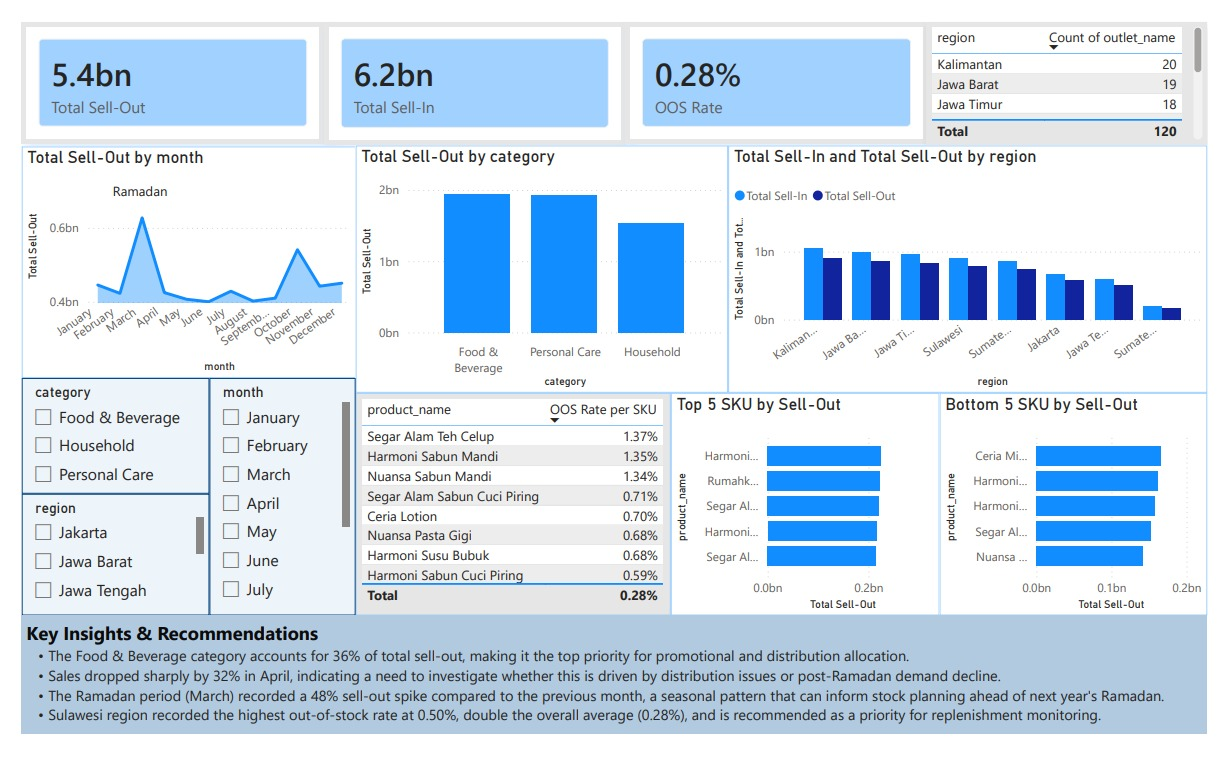

This screenshot's page, from the dashboard's own definition file:
{"tool":"powerbi","page":{"name":"FMCG Sales & Distribution Performance Dashboard","canvas":[1200,720],"ordinal":0},"visuals":[{"type":"cardVisual","fields":{"Data":["data_for_excel.Total Sell-Out"]},"box":[0,0,305.7,122.9],"z":0},{"type":"cardVisual","fields":{"Data":["data_for_excel.Total Sell-In"]},"box":[305.7,0,305.7,124.3],"z":1000},{"type":"cardVisual","fields":{"Data":["data_for_excel.OOS Rate"]},"box":[611.4,0,305.7,122.9],"z":2000},{"type":"lineChart","fields":{"Category":["data_for_excel.month"],"Y":["data_for_excel.Total Sell-Out"]},"box":[0,125.7,338.6,234.3],"z":3000},{"type":"clusteredColumnChart","fields":{"Category":["data_for_excel.category"],"Y":["data_for_excel.Total Sell-Out"]},"box":[338.3,125,376.7,235],"z":4000},{"type":"tableEx","fields":{"Values":["data_for_excel.region","data_for_excel.outlet_name"]},"box":[915.7,0,284.3,124.3],"z":6000},{"type":"clusteredColumnChart","fields":{"Category":["data_for_excel.region"],"Y":["data_for_excel.Total Sell-In","data_for_excel.Total Sell-Out"]},"box":[715,125,485,235],"z":7000},{"type":"clusteredBarChart","title":"Top 5 SKU by Sell-Out","fields":{"Category":["data_for_excel.product_name"],"Y":["data_for_excel.Total Sell-Out"]},"box":[656.7,360,271.7,228.3],"z":8000},{"type":"clusteredBarChart","title":"Bottom 5 SKU by Sell-Out","fields":{"Category":["data_for_excel.product_name"],"Y":["data_for_excel.Total Sell-Out"]},"box":[928.3,360,271.7,228.3],"z":9000},{"type":"tableEx","fields":{"Values":["data_for_excel.product_name","data_for_excel.OOS Rate per SKU"]},"box":[338.3,360,318.3,228.3],"z":10000},{"type":"slicer","fields":{"Values":["data_for_excel.category"]},"box":[0,360,190,116.7],"z":11000},{"type":"slicer","fields":{"Values":["data_for_excel.region"]},"box":[0,476.7,190,111.7],"z":12000},{"type":"slicer","fields":{"Values":["data_for_excel.month"]},"box":[190,360,148.3,228.3],"z":13000},{"type":"textbox","box":[0,588.3,1200,131.7],"z":14000},{"type":"textbox","box":[80,156.7,80,30],"z":15000}]}

Visuals, with their boxes in screenshot pixels (x1, y1, x2, y2), scaled from the page's 1200x720 canvas onto the 1230x757 screenshot:
cardVisual - data_for_excel.Total Sell-Out: locate(0, 0, 313, 129)
cardVisual - data_for_excel.Total Sell-In: locate(313, 0, 627, 131)
cardVisual - data_for_excel.OOS Rate: locate(627, 0, 940, 129)
lineChart - data_for_excel.month x data_for_excel.Total Sell-Out: locate(0, 132, 347, 378)
clusteredColumnChart - data_for_excel.category x data_for_excel.Total Sell-Out: locate(347, 131, 733, 378)
tableEx - data_for_excel.region x data_for_excel.outlet_name: locate(939, 0, 1229, 131)
clusteredColumnChart - data_for_excel.region x data_for_excel.Total Sell-In: locate(733, 131, 1229, 378)
"Top 5 SKU by Sell-Out" clusteredBarChart: locate(673, 378, 952, 619)
"Bottom 5 SKU by Sell-Out" clusteredBarChart: locate(952, 378, 1229, 619)
tableEx - data_for_excel.product_name x data_for_excel.OOS Rate per SKU: locate(347, 378, 673, 619)
slicer - data_for_excel.category: locate(0, 378, 195, 501)
slicer - data_for_excel.region: locate(0, 501, 195, 619)
slicer - data_for_excel.month: locate(195, 378, 347, 619)
textbox: locate(0, 619, 1229, 756)
textbox: locate(82, 165, 164, 196)
